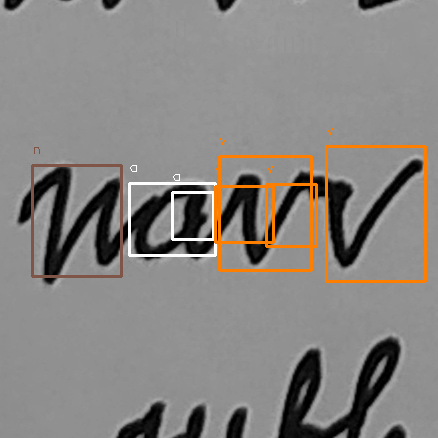a: (130, 177, 210, 266)
n: (31, 161, 126, 286)
v: (320, 156, 425, 272), (226, 161, 313, 268)
